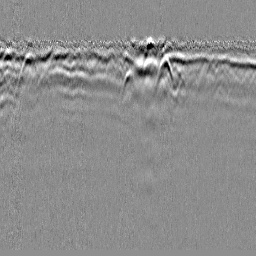cavity: (121, 67, 136, 99)
